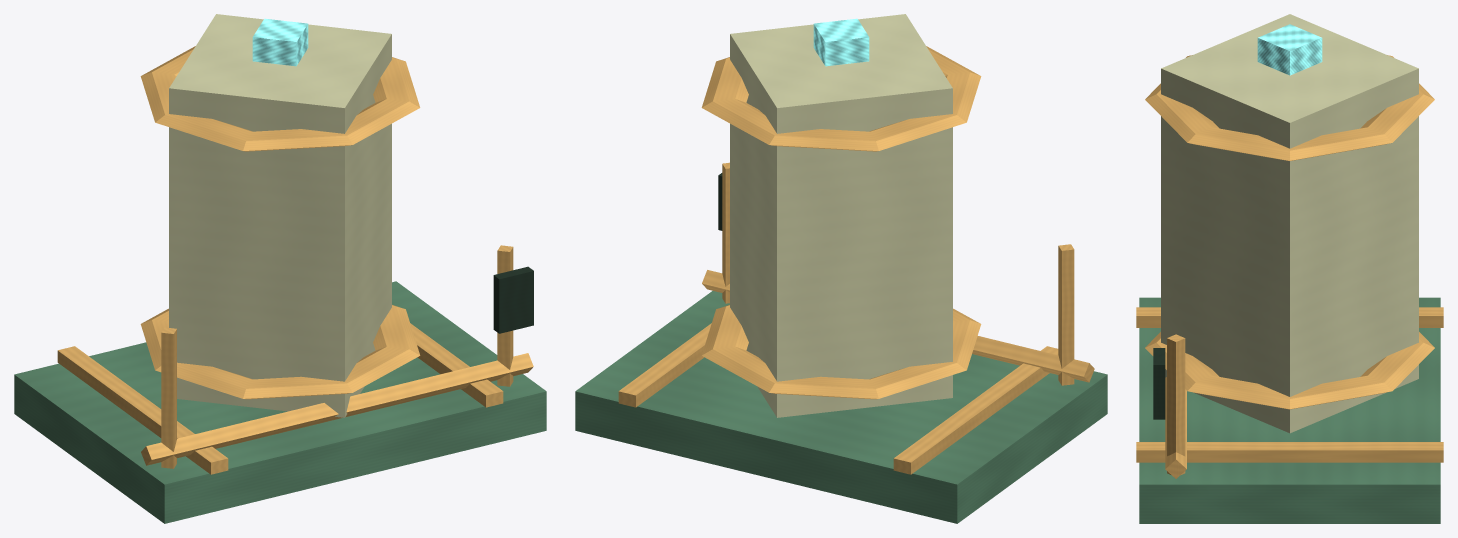
Rendered from atlas100-s006-a02.lod2.glb.
The picture shows the model from 3 angles, left to right: view 1: azimuth 30°, elevation 25°; view 2: azimuth 150°, elevation 25°; view 3: azimuth 270°, elevation 25°; orthographic projection.
Visible parts, largest first — view 1: atlas100-s006-a02:part-003, atlas100-s006-a02:part-000, atlas100-s006-a02:part-005, atlas100-s006-a02:part-004, atlas100-s006-a02:part-012, atlas100-s006-a02:part-001, atlas100-s006-a02:part-011, atlas100-s006-a02:part-006, atlas100-s006-a02:part-008, atlas100-s006-a02:part-002, atlas100-s006-a02:part-010; view 2: atlas100-s006-a02:part-003, atlas100-s006-a02:part-000, atlas100-s006-a02:part-005, atlas100-s006-a02:part-004, atlas100-s006-a02:part-001, atlas100-s006-a02:part-012, atlas100-s006-a02:part-002, atlas100-s006-a02:part-006, atlas100-s006-a02:part-008, atlas100-s006-a02:part-010; view 3: atlas100-s006-a02:part-003, atlas100-s006-a02:part-000, atlas100-s006-a02:part-005, atlas100-s006-a02:part-004, atlas100-s006-a02:part-002, atlas100-s006-a02:part-006, atlas100-s006-a02:part-010, atlas100-s006-a02:part-001, atlas100-s006-a02:part-011, atlas100-s006-a02:part-012.
Boxes of the visible parts, x1,y1,x2,y2 form: atlas100-s006-a02:part-003: [169, 14, 391, 417]; atlas100-s006-a02:part-000: [14, 281, 546, 523]; atlas100-s006-a02:part-005: [140, 46, 420, 151]; atlas100-s006-a02:part-004: [140, 305, 420, 399]; atlas100-s006-a02:part-012: [141, 353, 533, 465]; atlas100-s006-a02:part-001: [57, 346, 228, 474]; atlas100-s006-a02:part-011: [493, 266, 533, 333]; atlas100-s006-a02:part-006: [252, 18, 308, 66]; atlas100-s006-a02:part-008: [161, 327, 176, 468]; atlas100-s006-a02:part-002: [410, 323, 503, 407]; atlas100-s006-a02:part-010: [497, 245, 513, 386]; atlas100-s006-a02:part-003: [730, 14, 952, 417]; atlas100-s006-a02:part-000: [575, 291, 1107, 523]; atlas100-s006-a02:part-005: [701, 46, 981, 151]; atlas100-s006-a02:part-004: [701, 305, 981, 399]; atlas100-s006-a02:part-001: [893, 346, 1058, 474]; atlas100-s006-a02:part-012: [702, 270, 1094, 382]; atlas100-s006-a02:part-002: [618, 323, 711, 407]; atlas100-s006-a02:part-006: [813, 18, 869, 66]; atlas100-s006-a02:part-008: [1058, 244, 1074, 385]; atlas100-s006-a02:part-010: [722, 162, 729, 303]; atlas100-s006-a02:part-003: [1161, 14, 1418, 433]; atlas100-s006-a02:part-000: [1139, 297, 1440, 523]; atlas100-s006-a02:part-005: [1145, 55, 1434, 160]; atlas100-s006-a02:part-004: [1145, 332, 1434, 409]; atlas100-s006-a02:part-002: [1136, 442, 1443, 462]; atlas100-s006-a02:part-006: [1257, 24, 1322, 75]; atlas100-s006-a02:part-010: [1167, 334, 1185, 474]; atlas100-s006-a02:part-001: [1136, 307, 1443, 327]; atlas100-s006-a02:part-011: [1153, 348, 1165, 419]; atlas100-s006-a02:part-012: [1165, 377, 1186, 478].
Size of the model in its own units: 2.64 by 2.59 by 1.84.
Materials: 5 (5 with a texture image).
